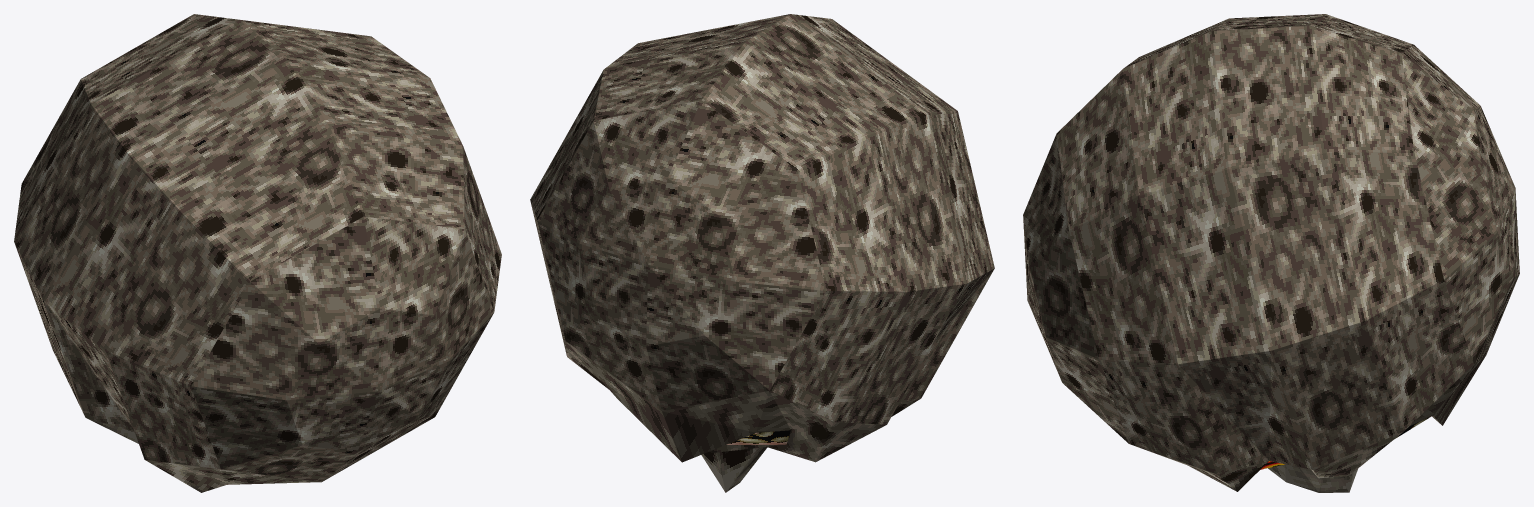
Rendered from Moon.obj.
The picture shows the model from 3 angles, left to right: view 1: azimuth 30°, elevation 25°; view 2: azimuth 150°, elevation 25°; view 3: azimuth 270°, elevation 25°; orthographic projection. The views are drawn at different scales.
Parts seen in each view (by area): view 1: Nemu_70597, Nemu_70590, Nemu_AEFDA; view 2: Nemu_70597, Nemu_70590, Nemu_AEFDA, Nemu_4AFAC; view 3: Nemu_70597, Nemu_70590, Nemu_AEFDA.
Part boxes in pixels (bbox=[...]): Nemu_70597: bbox=[14, 14, 501, 469]; Nemu_70590: bbox=[191, 216, 494, 481]; Nemu_AEFDA: bbox=[87, 418, 321, 492]; Nemu_70597: bbox=[530, 14, 994, 424]; Nemu_70590: bbox=[537, 100, 825, 411]; Nemu_AEFDA: bbox=[565, 341, 920, 492]; Nemu_4AFAC: bbox=[726, 430, 790, 444]; Nemu_70597: bbox=[1056, 14, 1473, 474]; Nemu_70590: bbox=[1023, 45, 1519, 443]; Nemu_AEFDA: bbox=[1136, 355, 1485, 492].
Size of what is drawn, in the model's own units: 37.28 by 38.13 by 36.77.
